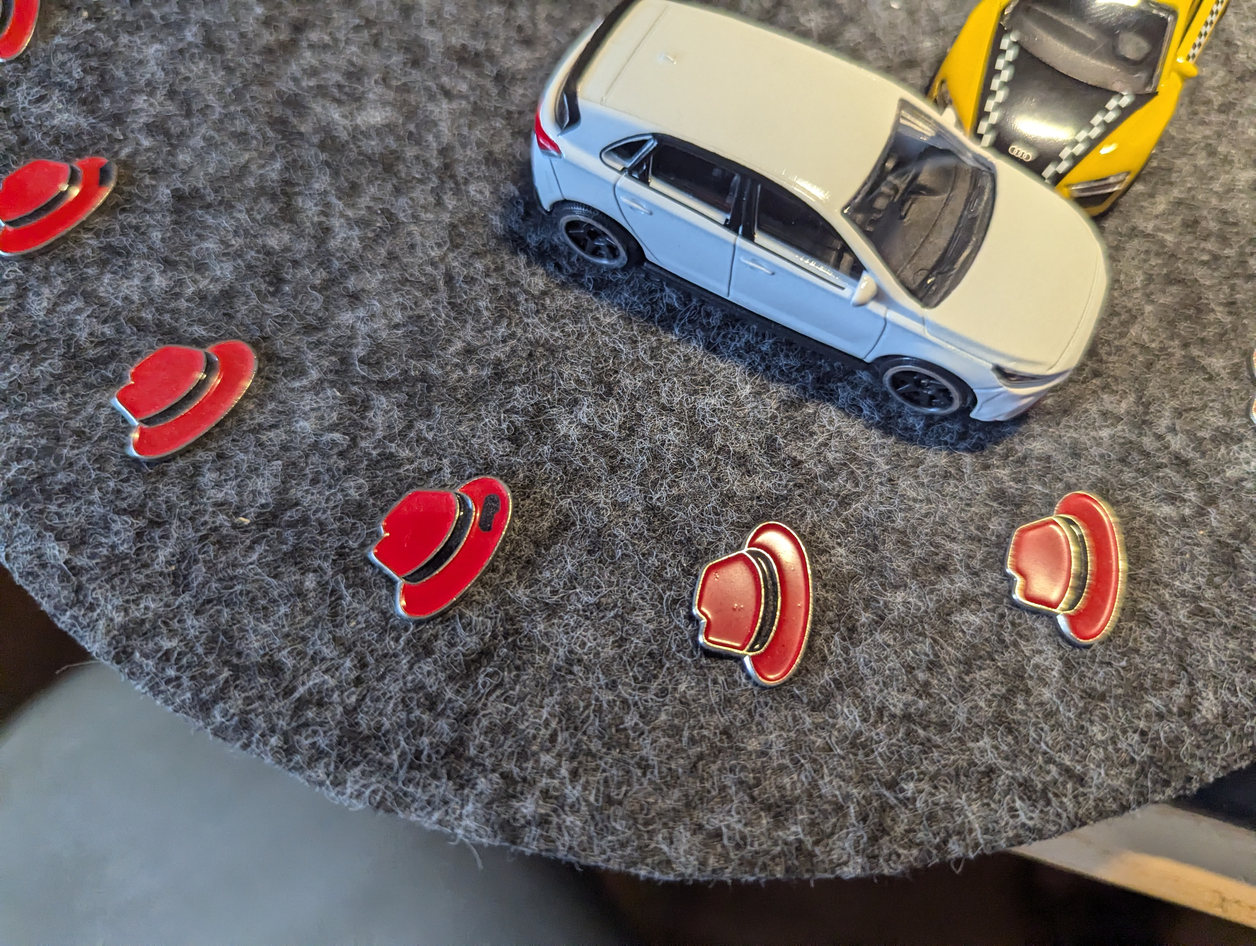Car: (510, 0, 1128, 451), (901, 0, 1248, 247)
Red-Hat: (684, 501, 842, 705), (351, 457, 525, 640), (88, 316, 271, 483), (988, 475, 1138, 658), (0, 131, 130, 275)
Scratch: (468, 483, 523, 551), (85, 153, 120, 193)
